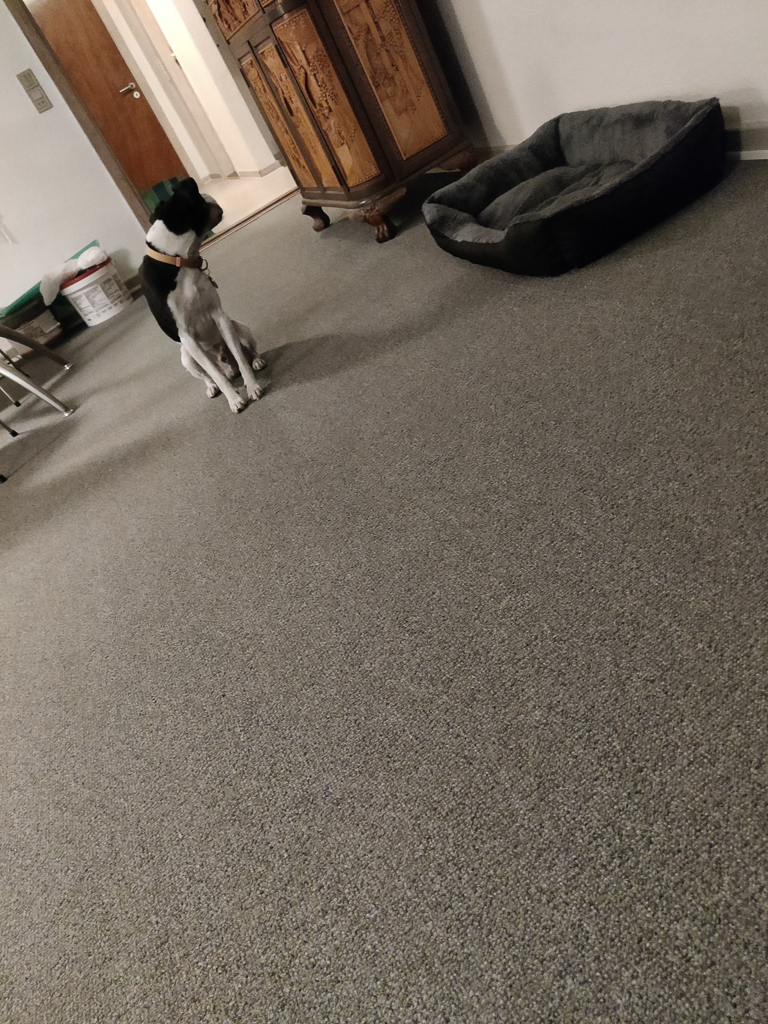Dog: (131, 170, 286, 420)
